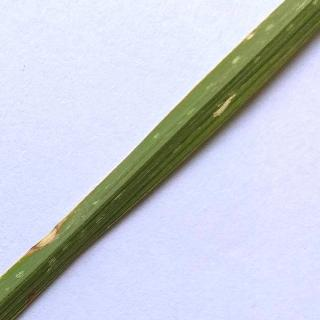Blast: (16, 282, 48, 316), (206, 90, 241, 119), (35, 228, 63, 252)
